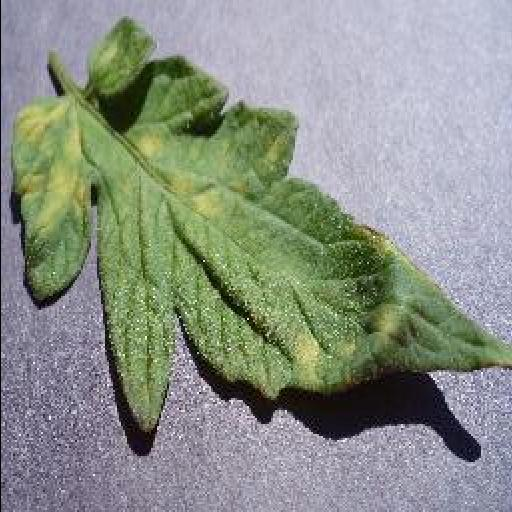disease_tomato: (11, 16, 509, 436)
